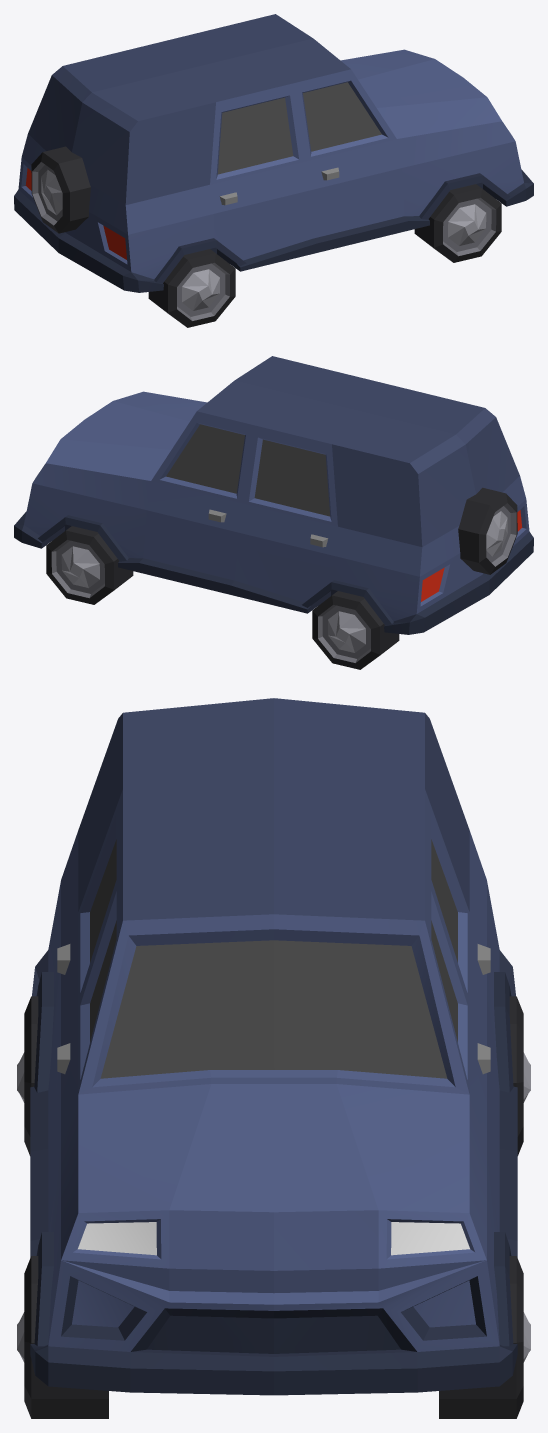
The model's file is car6.fbx.
The picture shows the model from 3 angles, top to bottom: view 1: azimuth 30°, elevation 25°; view 2: azimuth 150°, elevation 25°; view 3: azimuth 270°, elevation 25°; orthographic projection. The views are drawn at different scales.
Parts seen in each view (by area): view 1: car6, car6_wheels_B, car6_wheels_F; view 2: car6, car6_wheels_B, car6_wheels_F; view 3: car6, car6_wheels_F, car6_wheels_B.
Boxes of the visible parts, <box> form: car6: <box>14,14,533,292</box>; car6_wheels_B: <box>148,249,235,327</box>; car6_wheels_F: <box>414,184,501,262</box>; car6: <box>14,356,533,634</box>; car6_wheels_B: <box>312,591,399,669</box>; car6_wheels_F: <box>46,526,133,604</box>; car6: <box>30,698,517,1395</box>; car6_wheels_F: <box>17,1256,530,1418</box>; car6_wheels_B: <box>17,996,530,1155</box>.
Bounding box in the file's own units: 682 × 296 × 345.
